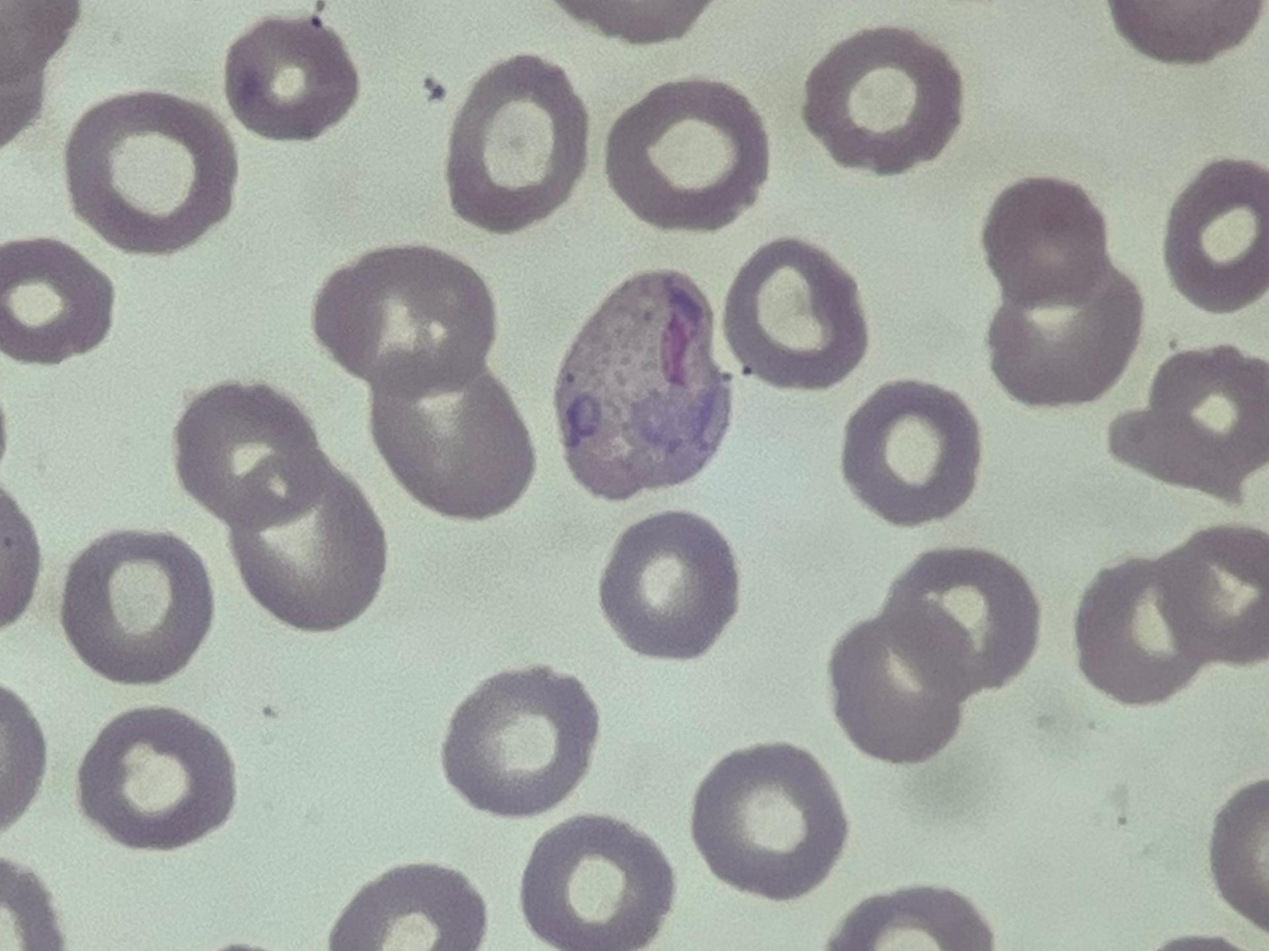Infected: (557, 274, 733, 500)
Uninfected: (172, 381, 385, 631), (833, 549, 1037, 760), (980, 177, 1141, 403), (1086, 523, 1269, 699), (62, 91, 237, 252), (314, 246, 498, 391), (444, 56, 591, 231), (603, 79, 770, 231), (1114, 348, 1269, 506), (691, 744, 847, 898), (802, 28, 964, 175), (58, 532, 213, 685), (441, 671, 597, 817), (720, 236, 867, 390), (372, 381, 532, 522), (78, 706, 234, 849), (839, 381, 985, 525), (601, 513, 739, 656), (520, 816, 669, 946), (224, 15, 358, 140), (1164, 160, 1269, 311), (0, 237, 113, 361)
